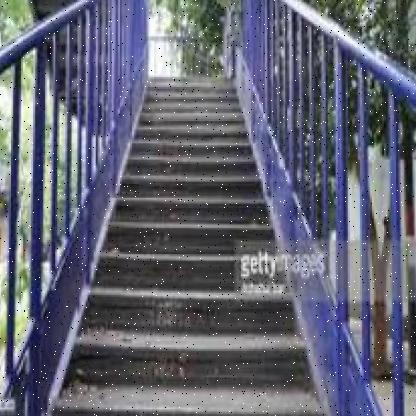stair_up: (53, 252, 330, 414)
